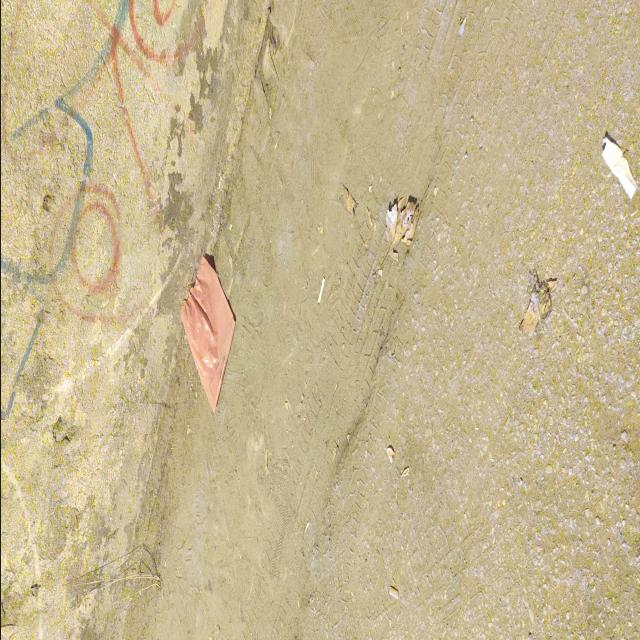Cigarette: (317, 276, 324, 303), (388, 586, 398, 599)
Other plastic: (601, 136, 637, 200)
Plastic film: (180, 256, 235, 412)
